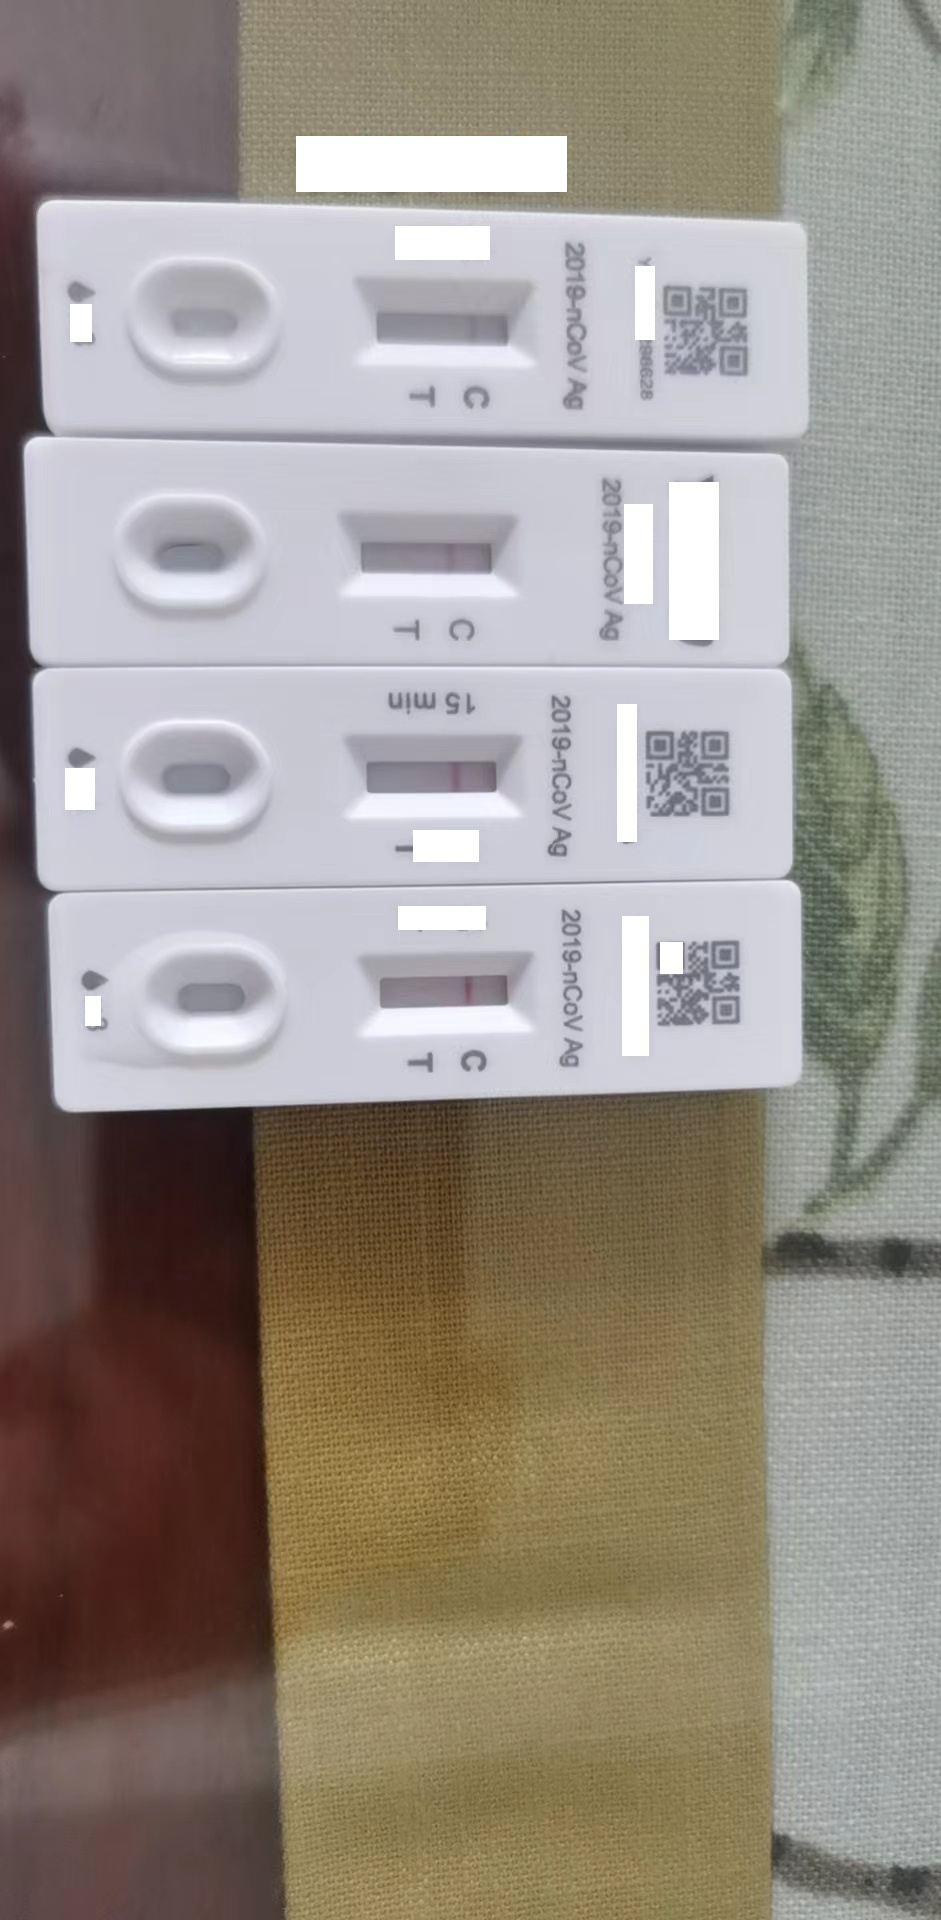negative: (353, 276, 544, 360), (336, 509, 522, 593), (347, 735, 524, 811), (364, 951, 543, 1025)
